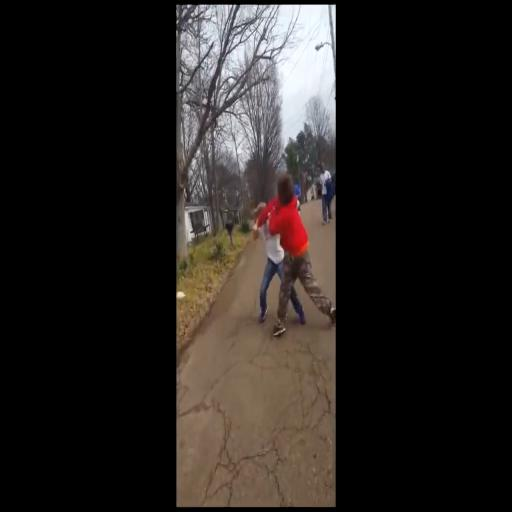violencia: (249, 169, 336, 341)
